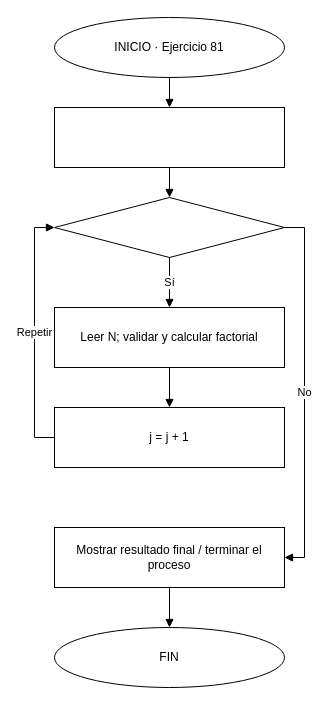
Image size: 330x705. Some labels were removed from this diagram. Here are the shapes that lost their labels. From the top down, the centre of each, then its label:
At (169,137): "Leer cantidad; j = 1".
At (169,227): "¿j <= cantidad?".
